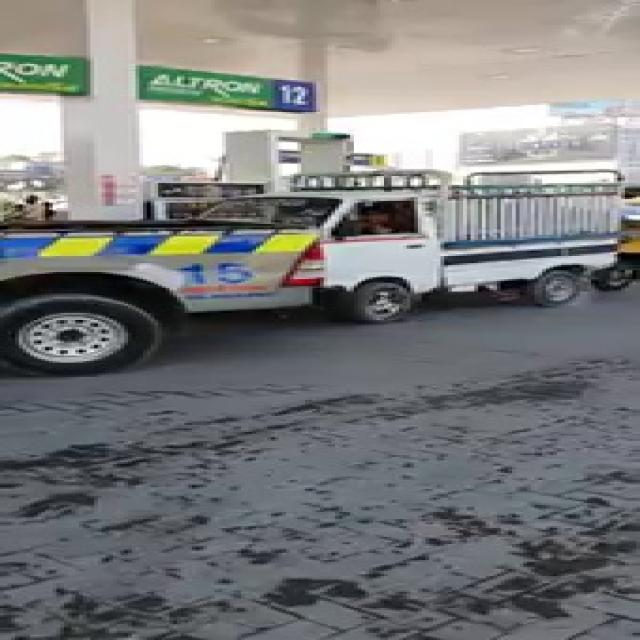police: (18, 216, 380, 376)
